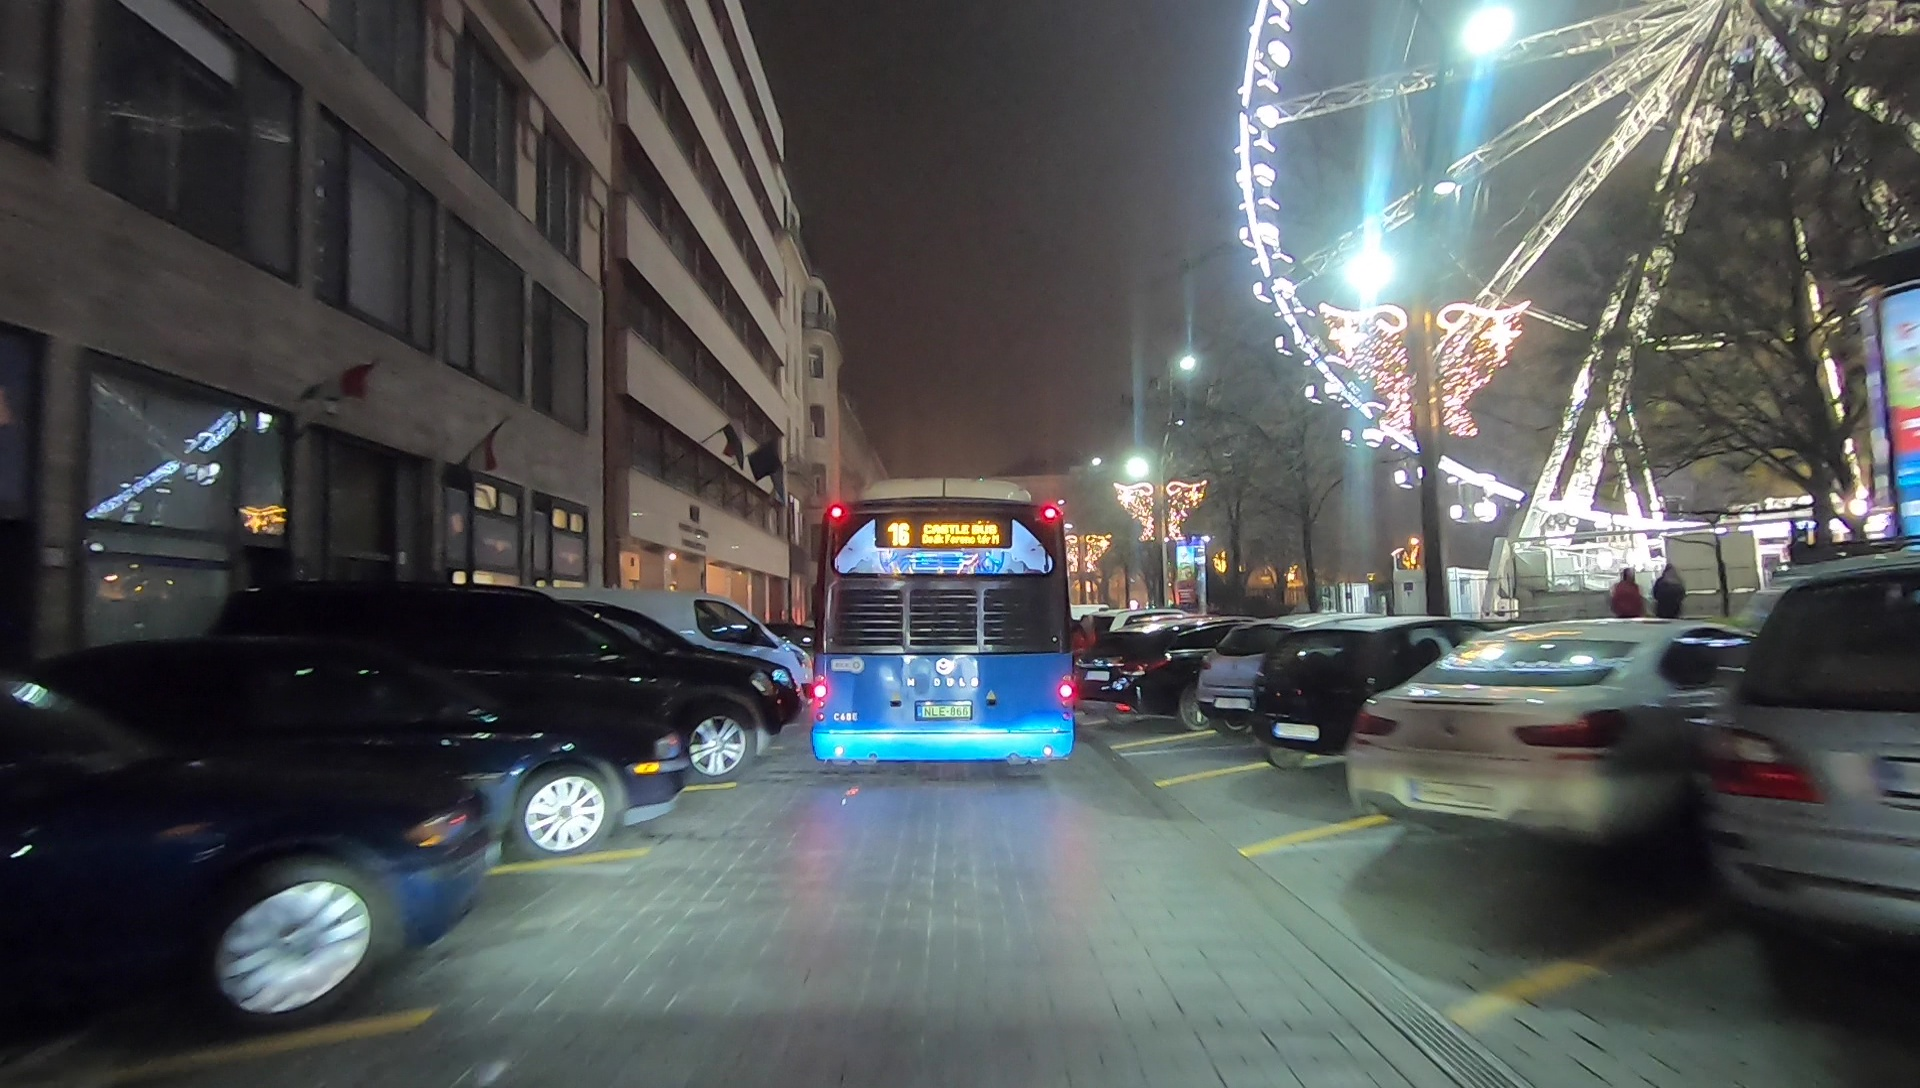person: (1610, 567, 1647, 674), (1654, 560, 1682, 656), (1069, 615, 1097, 686)
